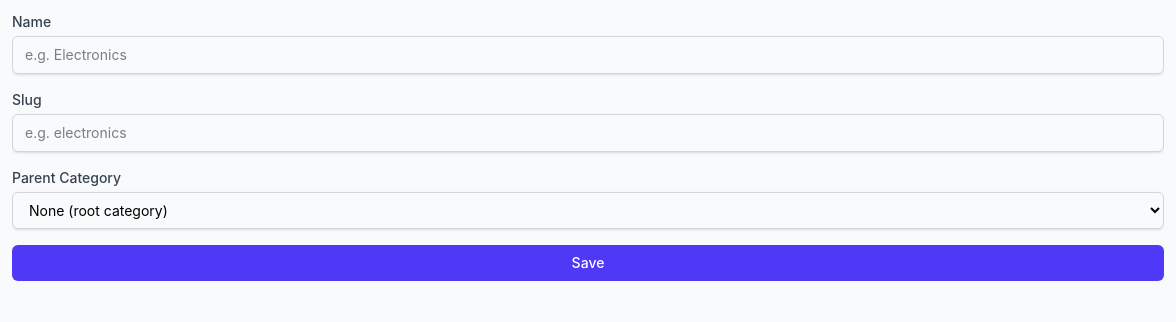
it: CategoryForm › should show validation error when submitted with empty slug
The image size is (1176, 322).
Type "Electronics" into the field with placeholder "e.g. Electronics" at (588, 55), box top-left (12, 36), bottom-right (1164, 74)
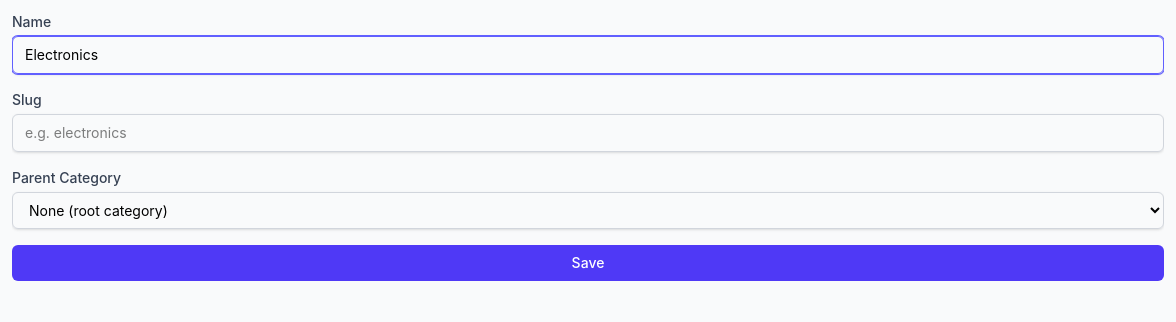
Click the button "Save" at (588, 263), box top-left (12, 245), bottom-right (1164, 281)
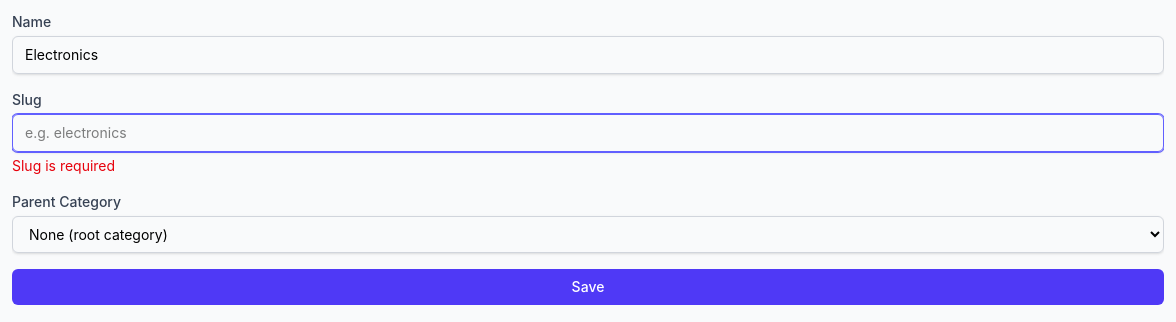
Expected: the text "Slug is required" is shown, top-left (12, 157), bottom-right (115, 174)
